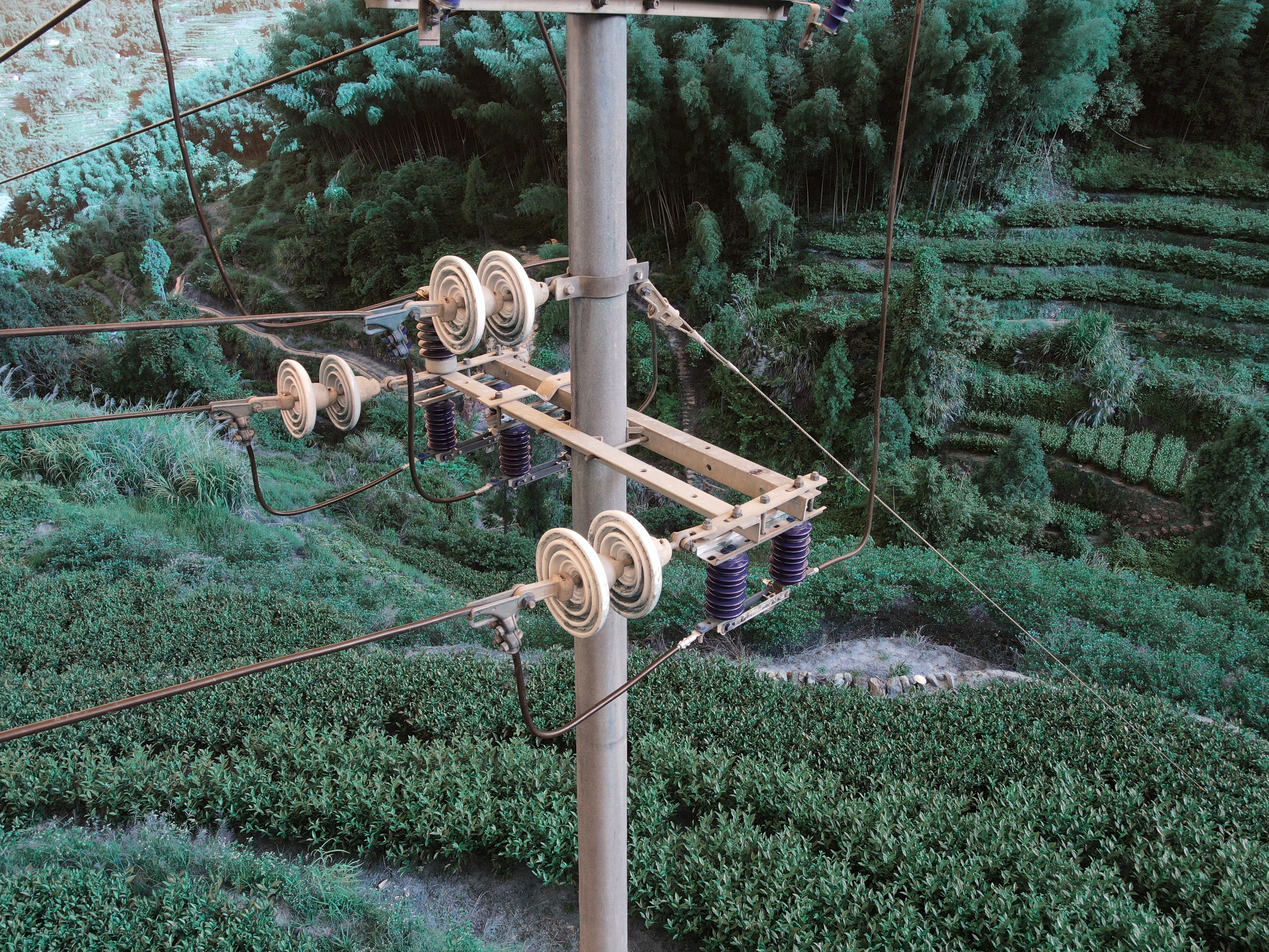severe_soiling_no_discharge_whole: (532, 505, 668, 641), (424, 244, 552, 356), (277, 348, 383, 437)
